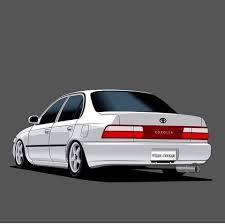Sedan: (11, 85, 215, 184)
